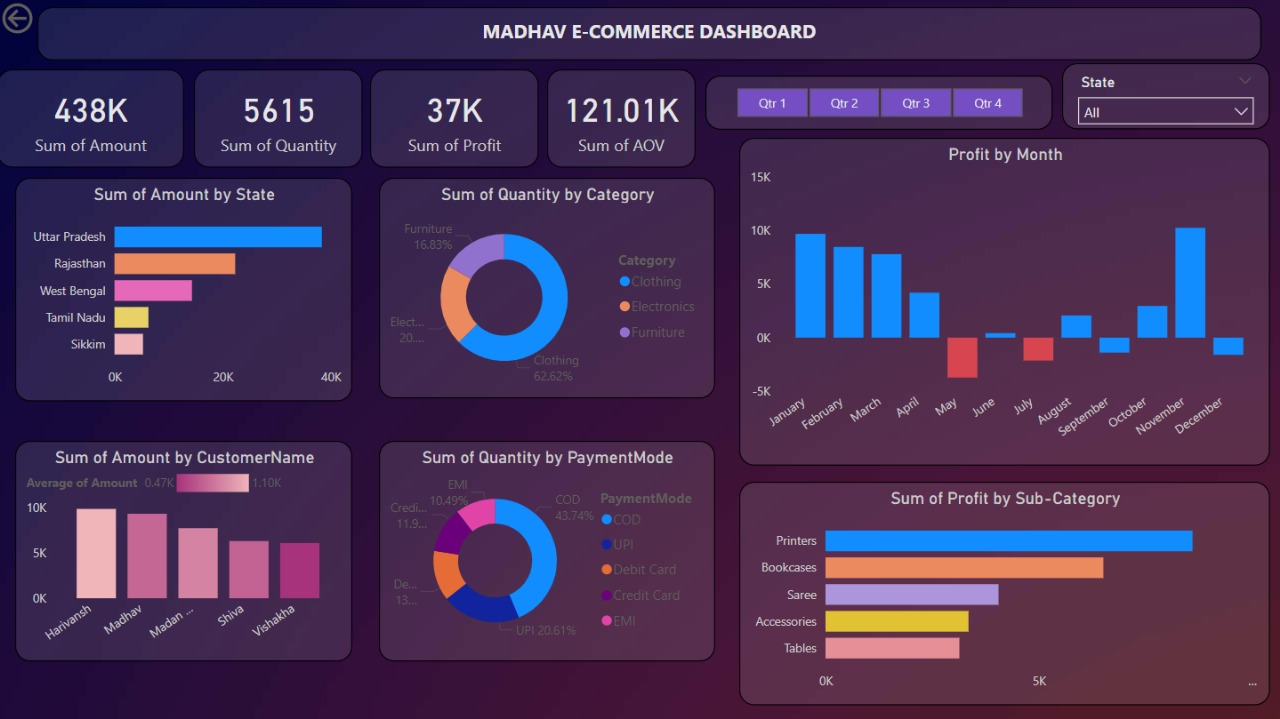

This screenshot's page, from the dashboard's own definition file:
{"tool":"powerbi","page":{"name":"Page 1","canvas":[1280,720],"ordinal":0},"visuals":[{"type":"textbox","box":[39.9,8.8,1219.7,52.5],"z":0},{"type":"columnChart","title":"Profit by Month","fields":{"Category":["Orders.Order Date.Variation.Date Hierarchy.Month"],"Y":["Details.Profit"]},"box":[739.2,139.1,529.1,326.8],"z":1000},{"type":"barChart","fields":{"Y":["Details.Profit"],"Category":["Details.Sub-Category"]},"box":[739.2,482.4,529.1,222.7],"z":2000},{"type":"donutChart","fields":{"Category":["Details.Category"],"Y":["Details.Quantity"]},"box":[380.3,179,334.6,219.8],"z":3000},{"type":"donutChart","fields":{"Y":["Details.Quantity"],"Category":["Details.PaymentMode"]},"box":[380.3,441.6,334.6,219.8],"z":4000},{"type":"card","fields":{"Values":["Details.Amount"]},"box":[0,70.9,186.2,97.5],"z":5000},{"type":"card","fields":{"Values":["Details.Quantity"]},"box":[196,70.9,168.5,97.5],"z":6000},{"type":"card","fields":{"Values":["Details.Profit"]},"box":[371.5,70.9,168.5,97.5],"z":7000},{"type":"actionButton","box":[0,0,100,40],"z":8000},{"type":"card","fields":{"Values":["Details.AOV"]},"box":[548,70.9,148.1,97.5],"z":9000},{"type":"barChart","fields":{"Category":["Orders.State"],"Y":["Details.Amount"]},"box":[17.5,179,335.6,222.7],"z":10000},{"type":"clusteredColumnChart","fields":{"Category":["Orders.CustomerName"],"Y":["Details.Amount"]},"box":[18,442,336,220],"z":11000},{"type":"slicer","fields":{"Values":["Orders.Order Date.Variation.Date Hierarchy.Quarter"]},"box":[706.1,76.8,346.3,54.5],"z":12000},{"type":"slicer","fields":{"Values":["Orders.State"]},"box":[1061.2,65.2,207.2,66.1],"z":13000}]}

Visuals, with their boxes in screenshot pixels (x1, y1, x2, y2), scaled from the page's 1280x720 canvas onto the 1280x719 screenshot:
textbox: box=[40, 9, 1260, 61]
"Profit by Month" columnChart: box=[739, 139, 1268, 465]
barChart - Details.Profit x Details.Sub-Category: box=[739, 482, 1268, 704]
donutChart - Details.Category x Details.Quantity: box=[380, 179, 715, 398]
donutChart - Details.Quantity x Details.PaymentMode: box=[380, 441, 715, 660]
card - Details.Amount: box=[0, 71, 186, 168]
card - Details.Quantity: box=[196, 71, 364, 168]
card - Details.Profit: box=[372, 71, 540, 168]
actionButton: box=[0, 0, 100, 40]
card - Details.AOV: box=[548, 71, 696, 168]
barChart - Orders.State x Details.Amount: box=[18, 179, 353, 401]
clusteredColumnChart - Orders.CustomerName x Details.Amount: box=[18, 441, 354, 661]
slicer - Orders.Order Date.Variation.Date Hierarchy.Quarter: box=[706, 77, 1052, 131]
slicer - Orders.State: box=[1061, 65, 1268, 131]
